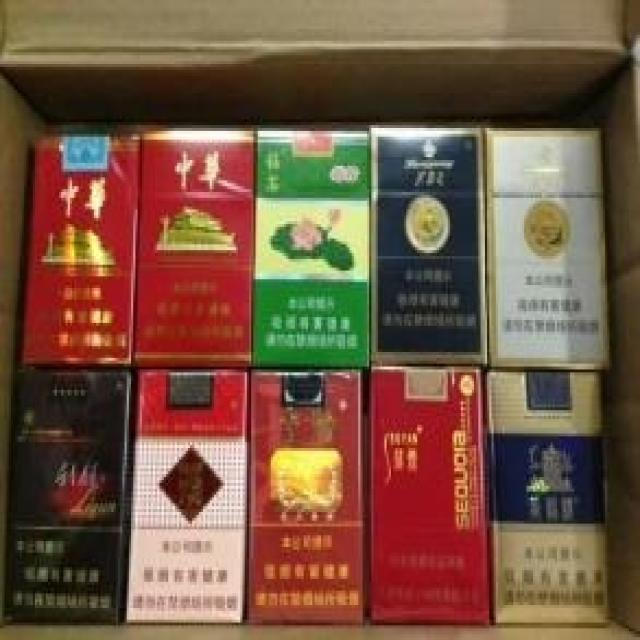box: (4, 364, 133, 623), (122, 364, 251, 623), (367, 364, 489, 625), (245, 367, 367, 625), (487, 367, 609, 625), (483, 128, 612, 369), (133, 128, 258, 367), (251, 128, 371, 369), (22, 128, 142, 364), (369, 128, 489, 364)
